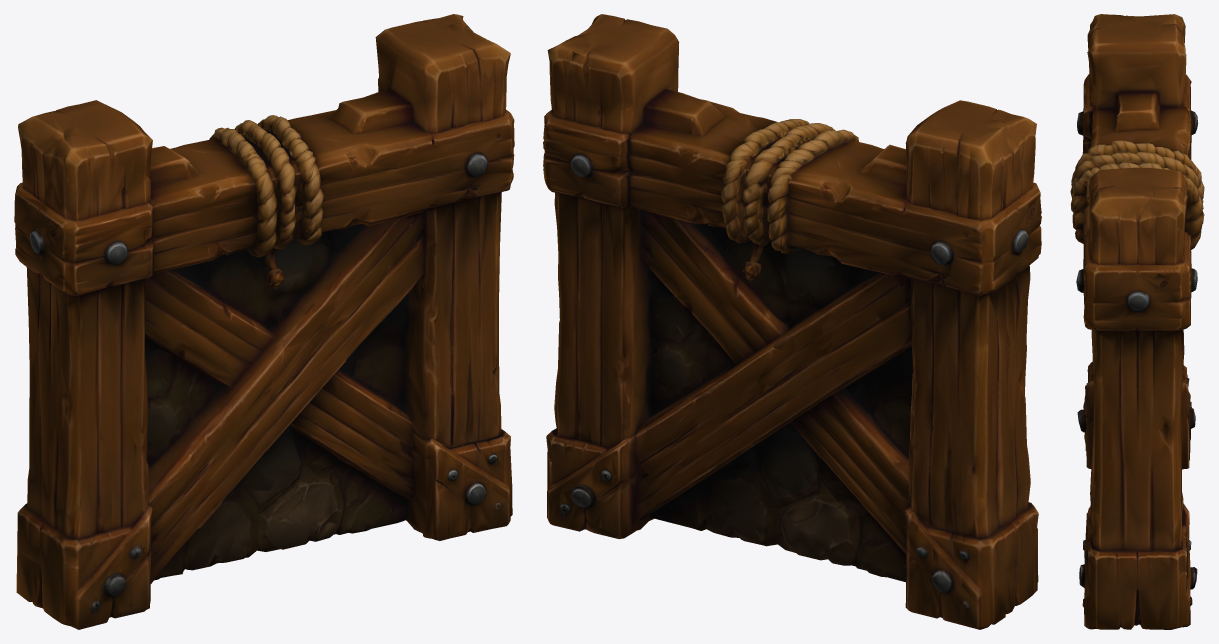
Rendered from muro_de_madera.glb.
3 renders of one model, left to right at view 1: azimuth 30°, elevation 25°; view 2: azimuth 150°, elevation 25°; view 3: azimuth 270°, elevation 25°, orthographic. The views are drawn at different scales.
Visible parts, largest first — view 1: muro_de_madera; view 2: muro_de_madera; view 3: muro_de_madera.
Boxes of the visible parts, x1,y1,x2,y2 form: muro_de_madera: (14, 14, 514, 629); muro_de_madera: (543, 14, 1041, 629); muro_de_madera: (1070, 14, 1204, 629).
Size of what is drawn, in the model's own units: 3 by 3 by 0.8408.
1 material, 1 textured.
